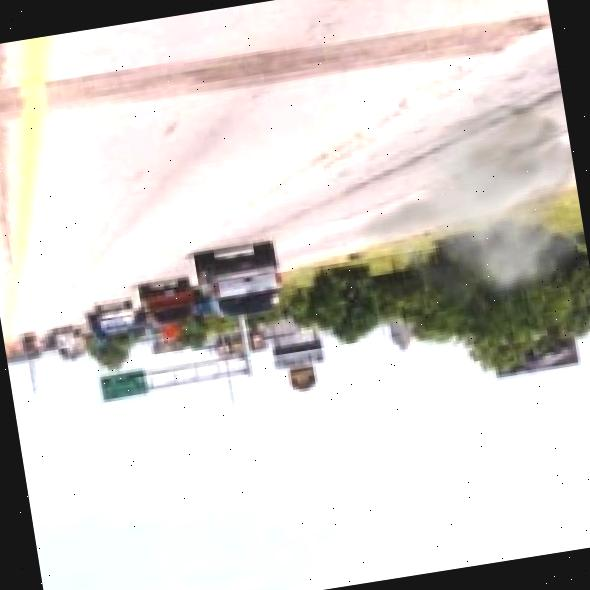smoke: (329, 72, 590, 326)
